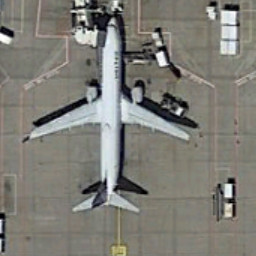Airplane: (16, 12, 197, 229)
